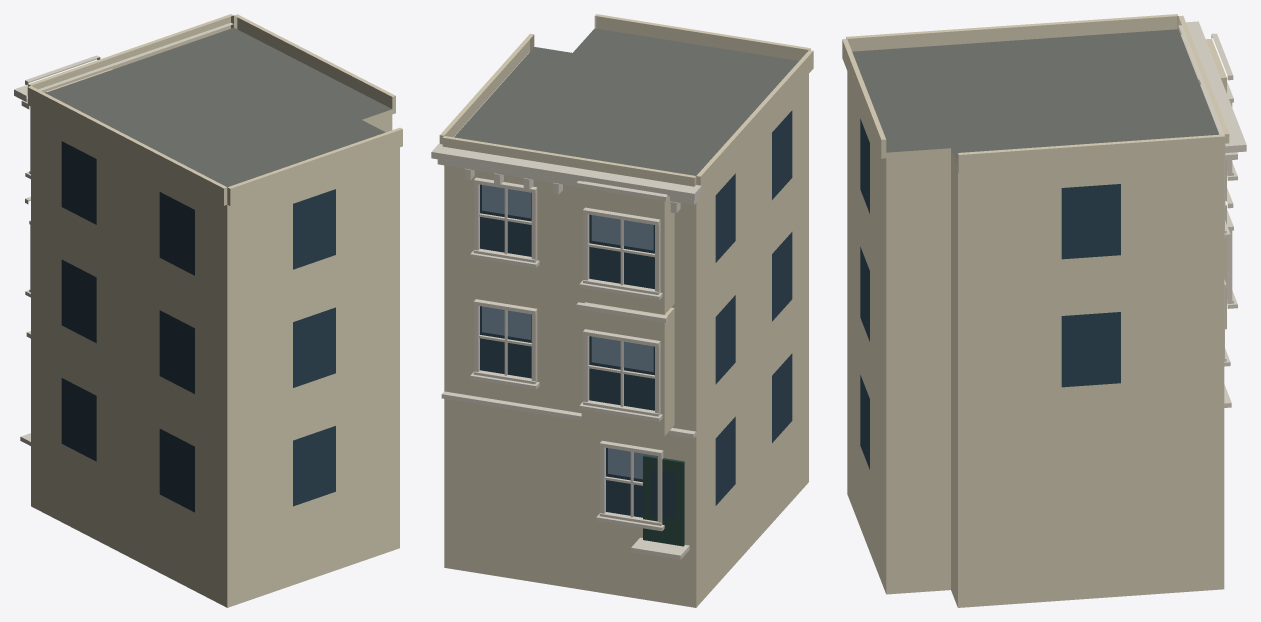
3 views of the same model, side by side, from view 1: azimuth 30°, elevation 25°; view 2: azimuth 150°, elevation 25°; view 3: azimuth 270°, elevation 25° (orthographic). The views are drawn at different scales.
Visible parts, largest first — view 1: Footprint 0 / surface 2, Footprint 0 / surface 1, Inset glazing, Facade bay volumes, Cornices and window frames; view 2: Footprint 0 / surface 2, Footprint 0 / surface 1, Cornices and window frames, Facade bay volumes, Inset glazing, Sky reflection panels, Storefronts and doors; view 3: Footprint 0 / surface 2, Footprint 0 / surface 1, Facade bay volumes, Inset glazing, Cornices and window frames.
Part boxes in pixels (box(x1,y1,x2,y2)): Footprint 0 / surface 2: box(31, 106, 399, 607); Footprint 0 / surface 1: box(45, 27, 391, 187); Inset glazing: box(61, 141, 335, 512); Facade bay volumes: box(27, 14, 402, 205); Cornices and window frames: box(14, 23, 233, 445); Footprint 0 / surface 2: box(444, 74, 808, 607); Footprint 0 / surface 1: box(454, 28, 798, 175); Cornices and window frames: box(431, 144, 701, 559); Facade bay volumes: box(439, 14, 813, 436); Inset glazing: box(480, 110, 792, 518); Sky reflection panels: box(482, 185, 656, 479); Storefronts and doors: box(643, 455, 684, 546); Footprint 0 / surface 2: box(847, 71, 1224, 607); Footprint 0 / surface 1: box(852, 29, 1219, 165); Facade bay volumes: box(842, 14, 1229, 329); Inset glazing: box(860, 119, 1120, 469); Cornices and window frames: box(1178, 21, 1246, 407).
Size of the model in its own units: 8.17 by 12.12 by 9.76.
